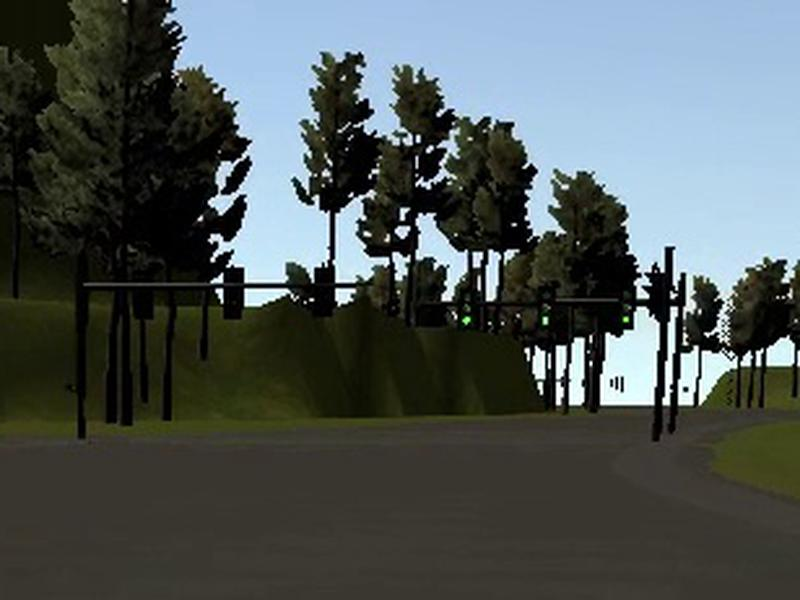Green: (456, 286, 477, 330), (538, 283, 557, 330), (617, 285, 636, 330)
